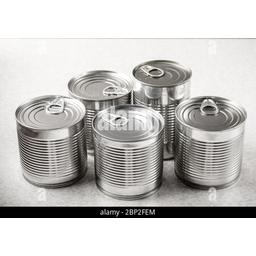metal: (87, 98, 167, 212), (9, 93, 90, 196), (172, 93, 246, 199), (126, 46, 197, 156)
